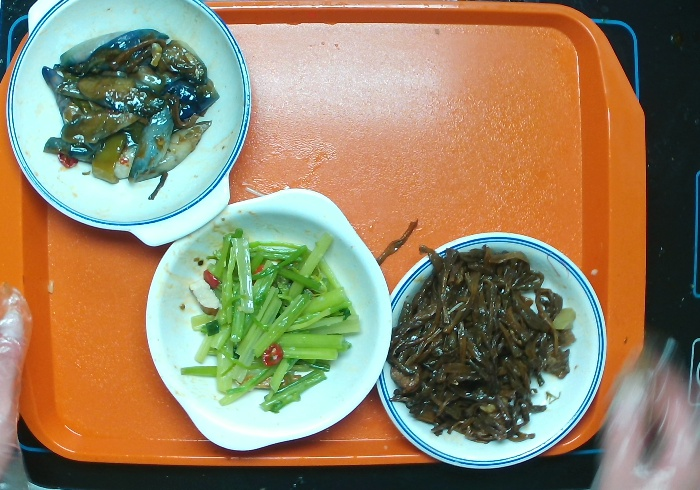HZYJPL-Dai_Er_Bai_Yuan_Wan: (144, 185, 394, 452)
HZYJPL-Lan_Bian_Dai_Er_Wan: (1, 1, 254, 249)
HZYJPL-Lan_Bian_Yuan_Die: (370, 229, 609, 470)
